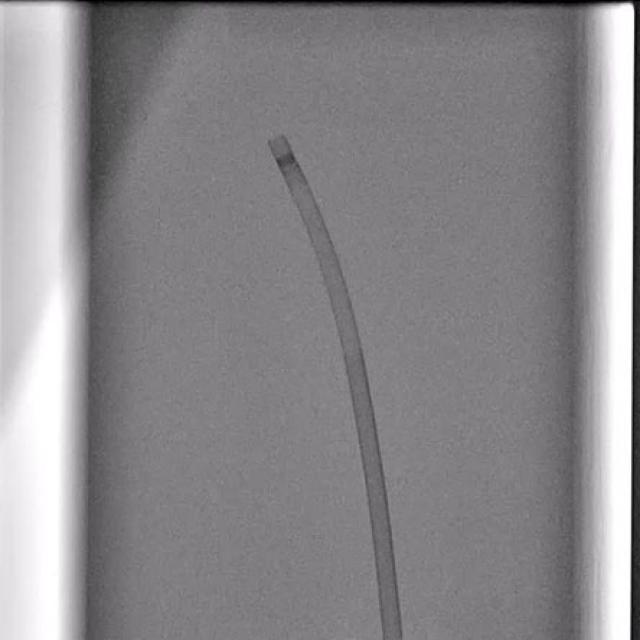bend: (341, 337, 361, 352)
entry: (382, 633, 403, 640)
marker: (274, 153, 298, 168)
tip: (268, 135, 286, 145)
